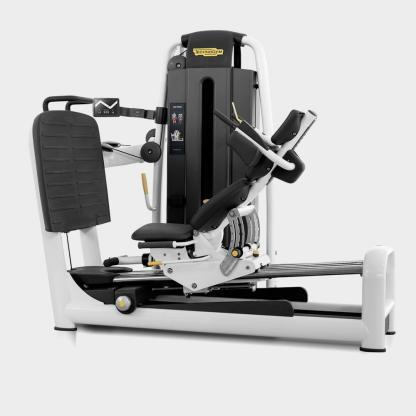leg press: (20, 21, 402, 361)
